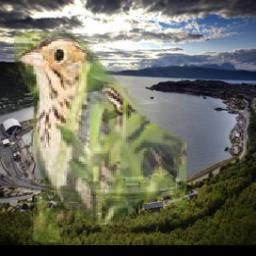Sparrow: (14, 32, 187, 243)
